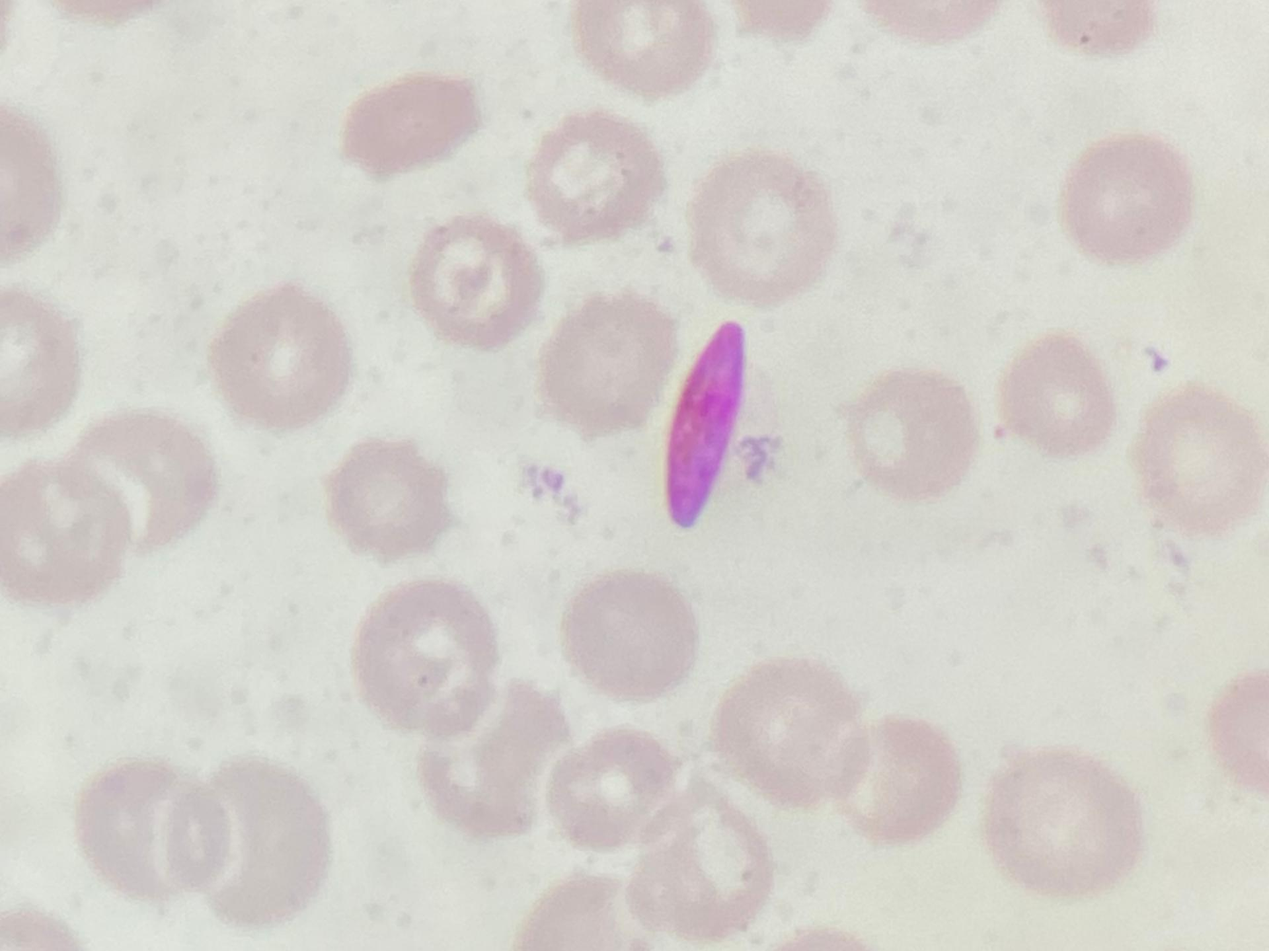Infected: (668, 322, 752, 524)
Uninfected: (422, 680, 572, 841), (352, 580, 505, 734), (710, 657, 867, 807), (623, 788, 776, 940), (191, 761, 332, 925), (685, 151, 838, 301), (69, 411, 220, 558), (985, 750, 1138, 895), (208, 284, 353, 428), (75, 758, 217, 902), (0, 457, 137, 605), (1132, 383, 1266, 533), (536, 292, 677, 434), (525, 112, 664, 241), (409, 215, 545, 346), (561, 569, 698, 699), (1061, 131, 1195, 262), (844, 371, 981, 499), (547, 728, 680, 853), (325, 437, 453, 558), (841, 718, 963, 844), (340, 73, 484, 179), (998, 332, 1116, 458), (572, 1, 714, 96)
